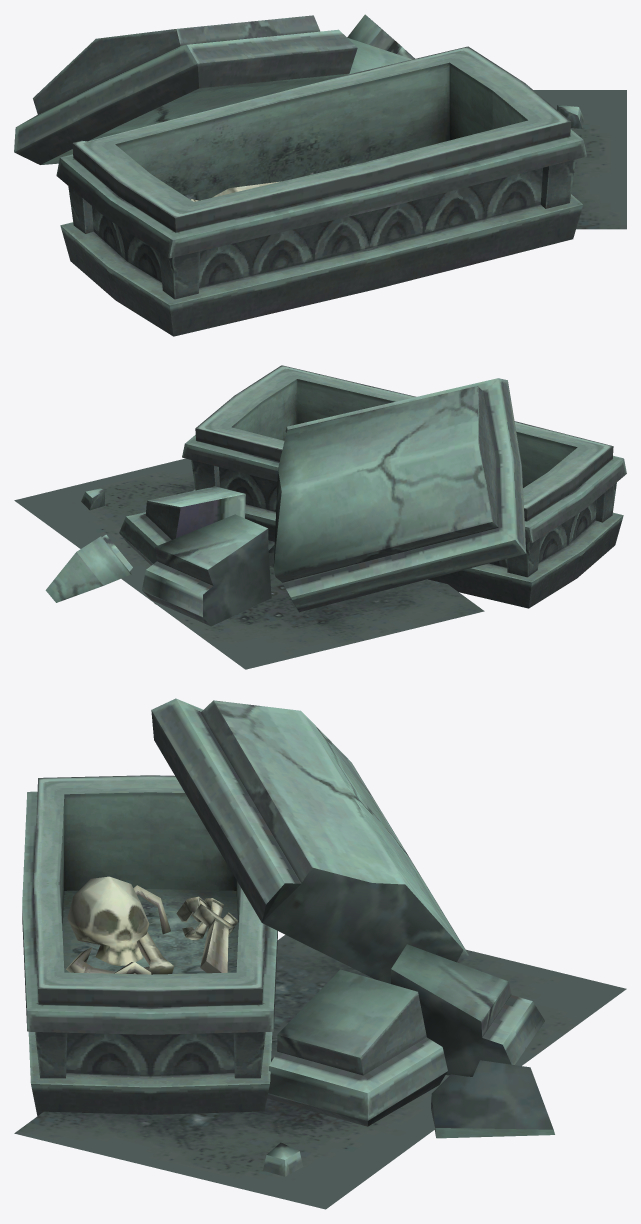
The model's file is crypt_tomb_opened01.fbx.
3 views of the same model, one above another, from view 1: azimuth 30°, elevation 25°; view 2: azimuth 150°, elevation 25°; view 3: azimuth 270°, elevation 25° (orthographic). The views are drawn at different scales.
Parts seen in each view (by area): view 1: crypt_tomb_opened01-0; view 2: crypt_tomb_opened01-0; view 3: crypt_tomb_opened01-0.
Part boxes in pixels (box(x1,y1,x2,y2)): crypt_tomb_opened01-0: box(14, 14, 626, 336); crypt_tomb_opened01-0: box(14, 365, 626, 669); crypt_tomb_opened01-0: box(14, 698, 626, 1209).
Bounding box in the file's own units: 4.07 × 1.52 × 3.24.
